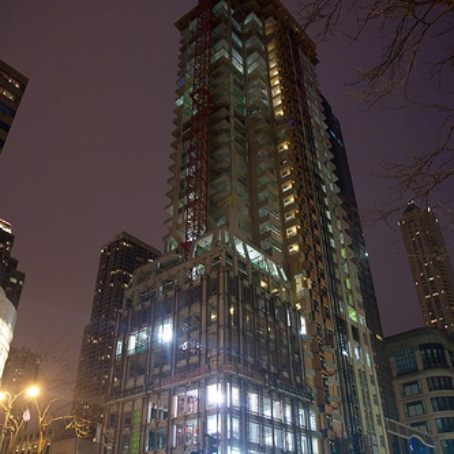building: (133, 1, 393, 453), (393, 204, 454, 454), (88, 231, 148, 450)
sky: (15, 1, 177, 256), (356, 1, 454, 248)
